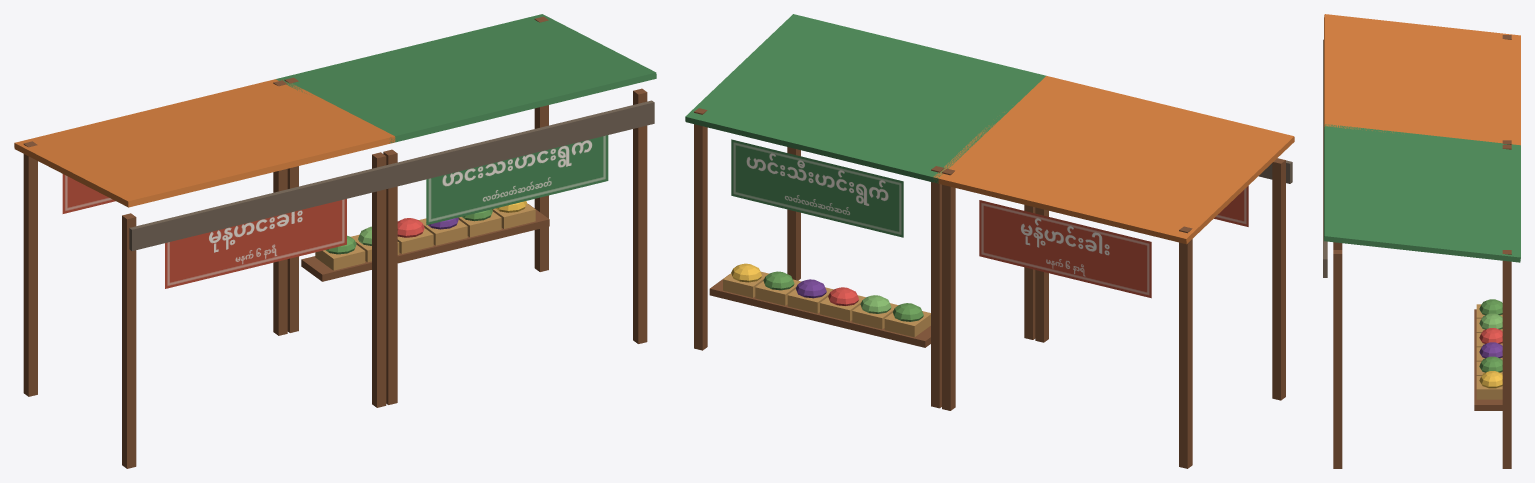
Rendered from stalls.glb.
3 renders of one model, left to right at view 1: azimuth 30°, elevation 25°; view 2: azimuth 150°, elevation 25°; view 3: azimuth 270°, elevation 25°, orthographic. The views are drawn at different scales.
Parts seen in each view (by area): view 1: roof-mohinga, roof-veg, sign-veg--y, sign-mohinga--y, valance0, valance1, post0-2.250.75, post0-2.25-0.75, post12.25-0.75, post0-0.04999999999999982-0.75, post10.04999999999999982-0.75, shelf (+6 smaller); view 2: roof-mohinga, roof-veg, sign-veg-+y, sign-mohinga-+y, post0-2.25-0.75, post0-2.250.75, post0-0.049999999999999820.75, post12.250.75, post10.049999999999999820.75, shelf, post0-0.04999999999999982-0.75, post12.25-0.75 (+3 smaller); view 3: roof-veg, roof-mohinga, post12.25-0.75, post12.250.75, shelf, basket5, Sphere.005, Sphere.001, Sphere.004, Sphere.002, Sphere.003, Sphere (+1 smaller).
Boxes of the visible parts, x1,y1,x2,y2 form: roof-mohinga: (14,78,395,207); roof-veg: (276,14,656,142); sign-veg--y: (426,135,608,225); sign-mohinga--y: (165,199,346,288); valance0: (129,164,393,250); valance1: (391,100,654,187); post0-2.250.75: (23,141,37,396); post0-2.25-0.75: (122,213,136,468); post12.25-0.75: (633,88,647,343); post0-0.04999999999999982-0.75: (372,152,386,407); post10.04999999999999982-0.75: (383,149,397,404); shelf: (301,204,549,281); roof-mohinga: (933,76,1294,244); roof-veg: (685,14,1046,183); sign-veg-+y: (731,139,903,237); sign-mohinga-+y: (979,200,1151,298); post0-2.25-0.75: (1272,158,1285,400); post0-2.250.75: (1179,226,1192,468); post0-0.049999999999999820.75: (942,168,955,410); post12.250.75: (694,108,707,350); post10.049999999999999820.75: (931,166,944,408); shelf: (709,274,930,347); post0-0.04999999999999982-0.75: (1035,207,1048,342); post12.25-0.75: (787,147,800,280); roof-veg: (1324,124,1520,262); roof-mohinga: (1324,14,1520,145); post12.25-0.75: (1333,250,1342,468); post12.250.75: (1502,250,1511,468); shelf: (1474,309,1502,410); basket5: (1476,376,1502,399); Sphere.005: (1479,371,1502,388); Sphere.001: (1479,313,1502,329); Sphere.004: (1479,356,1502,372); Sphere.002: (1479,328,1502,343); Sphere.003: (1479,342,1502,358); Sphere: (1479,299,1502,315).
Size of the model in its own units: 4.65 by 2.29 by 1.75.
13 materials, 2 textured.
